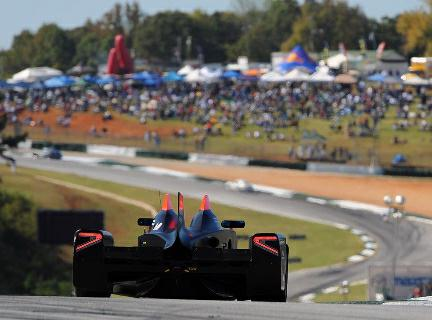日产-DeltaWing: (65, 182, 299, 310)
